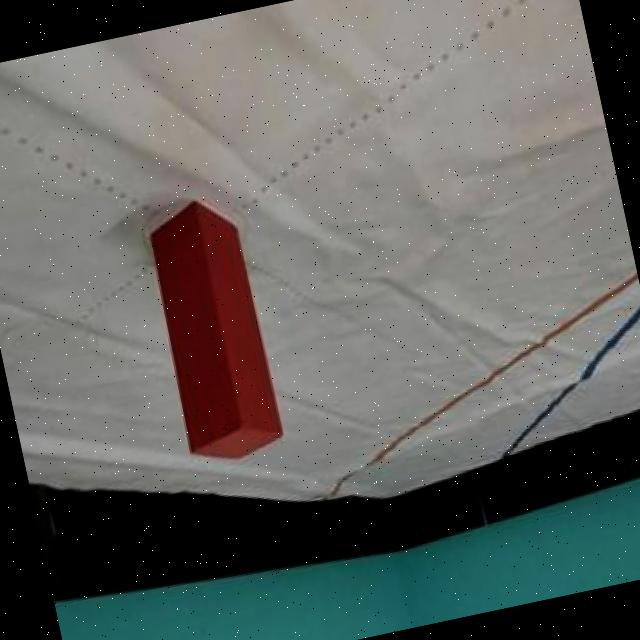redbox: (136, 189, 288, 470)
